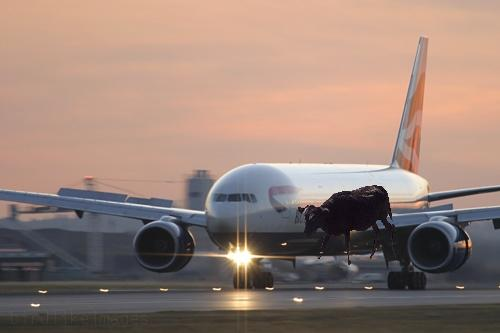tampered: (299, 186, 396, 265)
